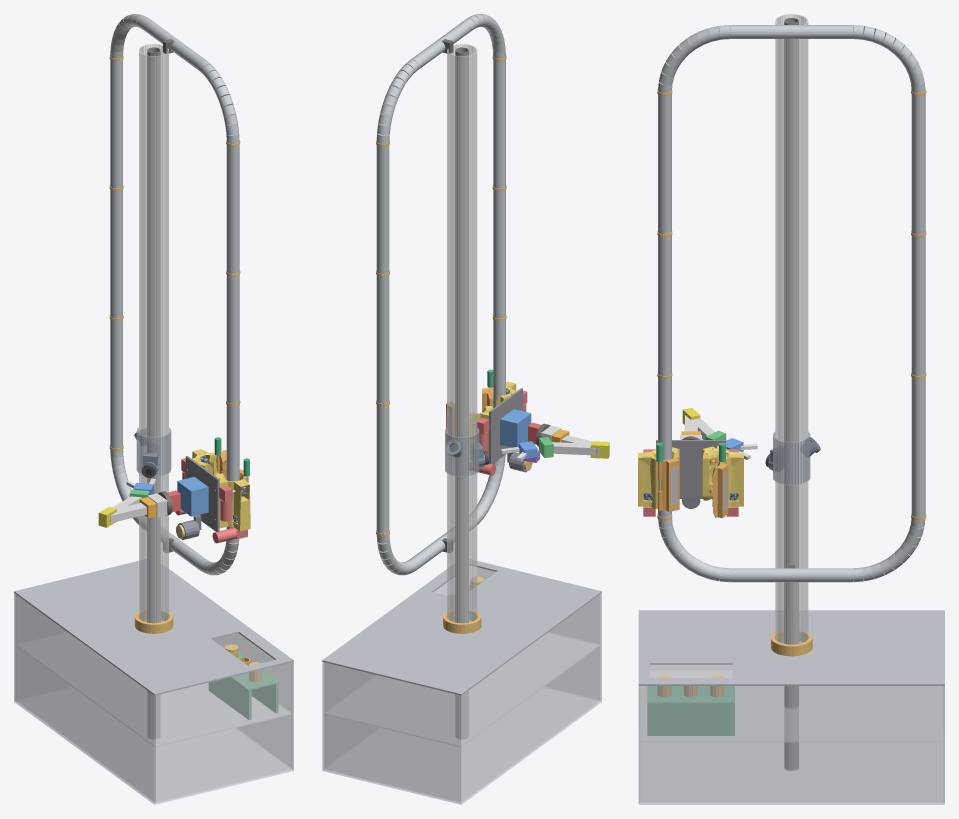
The model's file is transplant-seedling-step3-plug-v8.glb.
3 views of the same model, side by side, from view 1: azimuth 30°, elevation 25°; view 2: azimuth 150°, elevation 25°; view 3: azimuth 270°, elevation 25° (orthographic). The views are drawn at different scales.
Size of the model in its own units: 0.4899 by 1.9 by 0.701.
